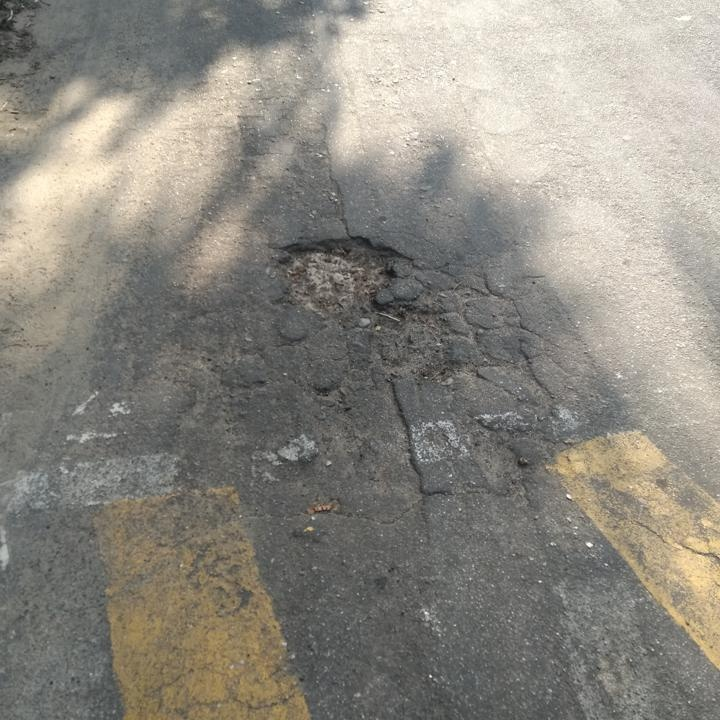pothole: (262, 233, 414, 325), (357, 298, 457, 382), (463, 421, 531, 502)
